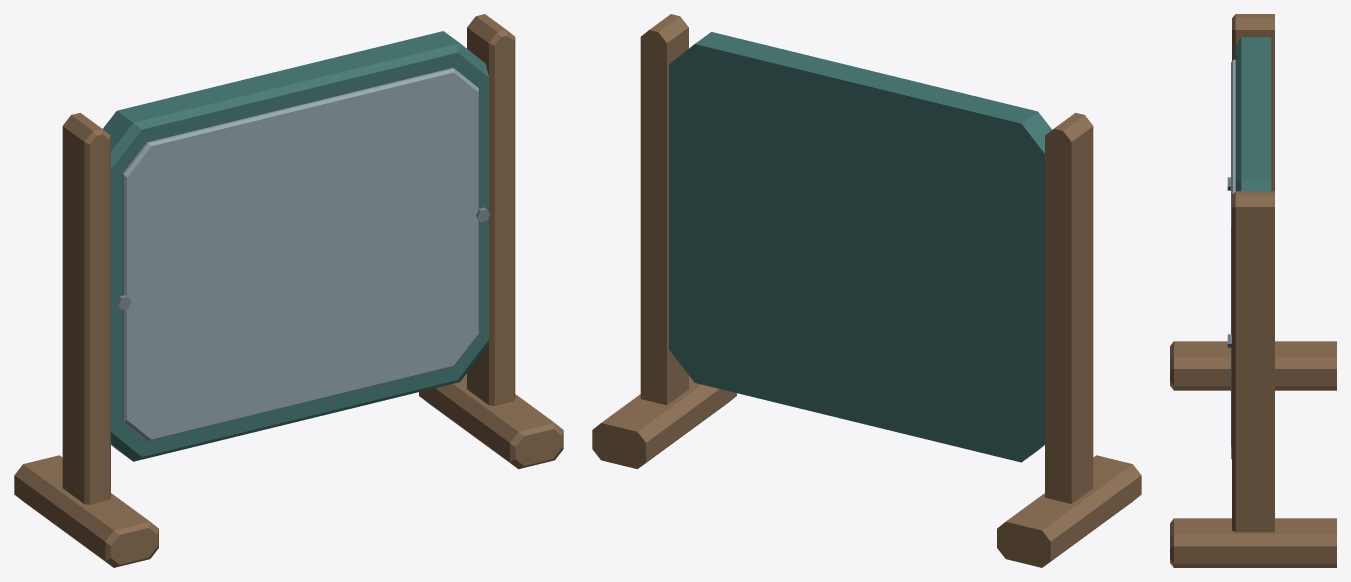
The model's file is H-05_low_mirror.glb.
3 renders of one model, left to right at view 1: azimuth 30°, elevation 25°; view 2: azimuth 150°, elevation 25°; view 3: azimuth 270°, elevation 25°, orthographic. The views are drawn at different scales.
Visible parts, largest first — view 1: H-05_low_mirror; view 2: H-05_low_mirror; view 3: H-05_low_mirror.
Part boxes in pixels (x1,y1,x2,y2): H-05_low_mirror: (14, 14, 563, 567); H-05_low_mirror: (592, 14, 1141, 567); H-05_low_mirror: (1170, 14, 1336, 567).
Size of the model in its own units: 0.641 by 0.546 by 0.225.
